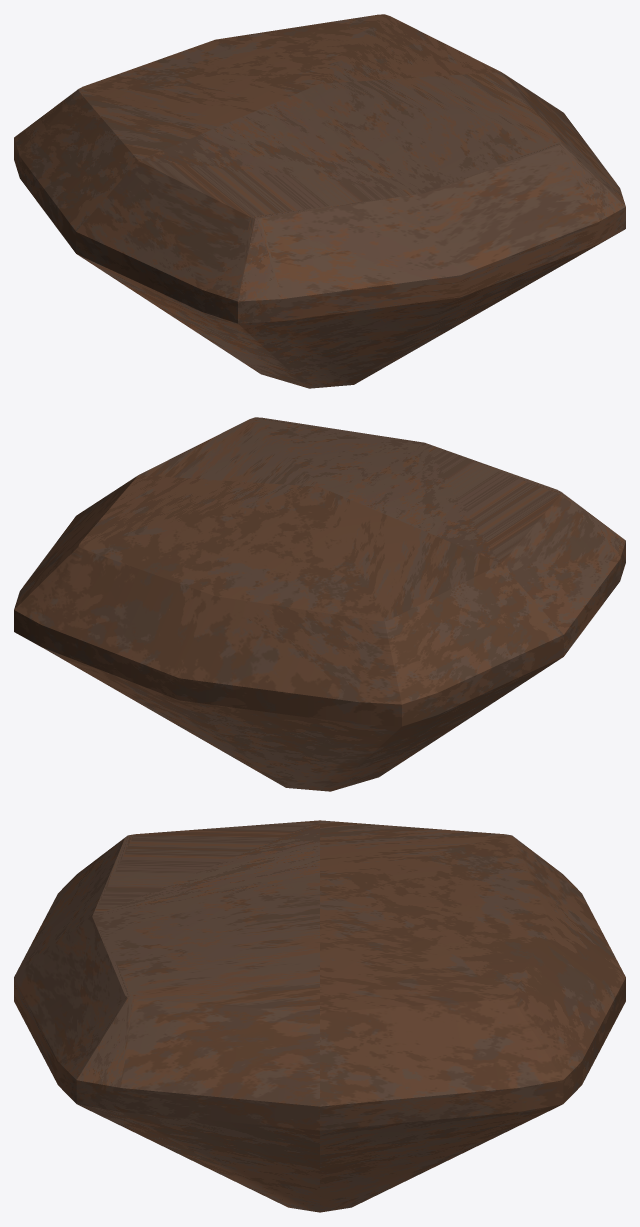
The model's file is Gem_01.fbx.
3 renders of one model, top to bottom at view 1: azimuth 30°, elevation 25°; view 2: azimuth 150°, elevation 25°; view 3: azimuth 270°, elevation 25°, orthographic. The views are drawn at different scales.
Visible parts, largest first — view 1: Gem_01; view 2: Gem_01; view 3: Gem_01.
Part boxes in pixels (x1,y1,x2,y2): Gem_01: (14, 14, 625, 388); Gem_01: (14, 417, 625, 791); Gem_01: (14, 820, 625, 1212).
Bounding box in the file's own units: 1.17 × 0.6862 × 1.17.
